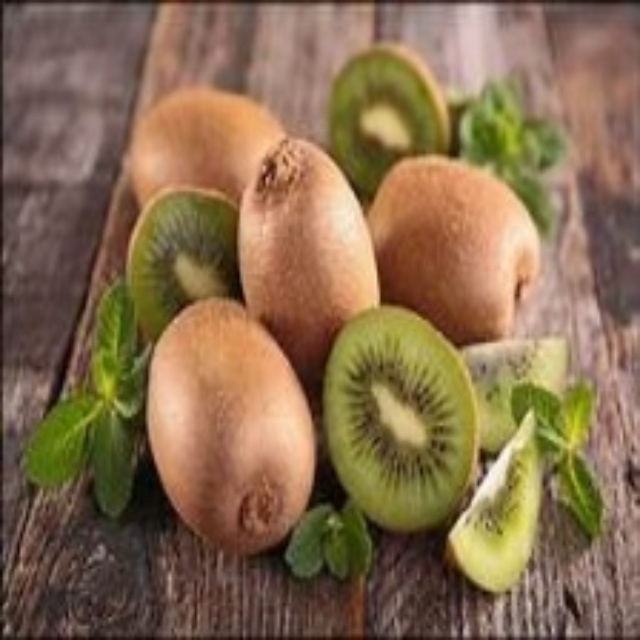kiwi: (322, 318, 604, 589), (151, 302, 314, 563), (118, 86, 278, 339), (235, 141, 370, 356), (383, 155, 536, 339)
